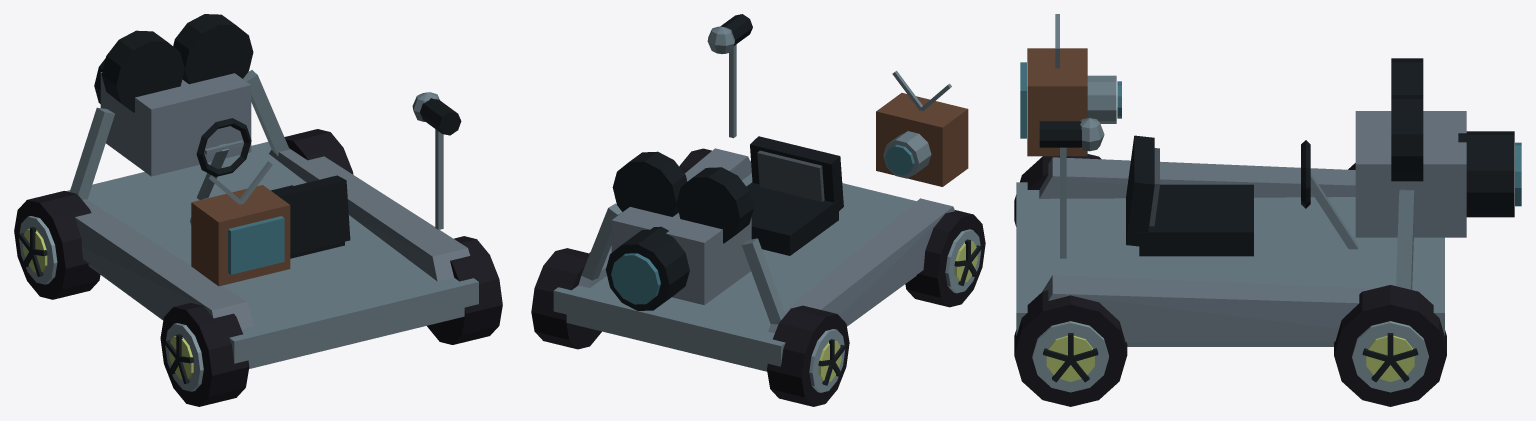
File: kart.glb
The picture shows the model from 3 angles, left to right: view 1: azimuth 30°, elevation 25°; view 2: azimuth 150°, elevation 25°; view 3: azimuth 270°, elevation 25°; orthographic projection. The views are drawn at different scales.
Parts seen in each view (by area): view 1: identity-camera-rig-camera-dolly-and-lens, identity-camera-rig-motif-television, wheel-rear-left, wheel-front-left, identity-camera-rig-driver-cockpit, wheel-rear-right, identity-camera-rig-motif-microphone, wheel-front-right; view 2: identity-camera-rig-camera-dolly-and-lens, identity-camera-rig-driver-cockpit, wheel-front-left, identity-camera-rig-motif-television, wheel-rear-left, wheel-front-right, identity-camera-rig-motif-microphone, identity-camera-rig-motif-camera; view 3: identity-camera-rig-camera-dolly-and-lens, identity-camera-rig-driver-cockpit, wheel-front-right, wheel-rear-right, identity-camera-rig-motif-television, identity-camera-rig-motif-microphone, identity-camera-rig-motif-camera, wheel-rear-left.
Boxes of the visible parts, x1,y1,x2,y2 form: identity-camera-rig-camera-dolly-and-lens: (66,14,478,368); identity-camera-rig-motif-television: (191,161,290,286); wheel-rear-left: (160,303,249,406); wheel-front-left: (14,191,100,299); identity-camera-rig-driver-cockpit: (196,118,350,258); wheel-rear-right: (427,236,502,344); identity-camera-rig-motif-microphone: (412,92,461,229); wheel-front-right: (284,129,353,174); identity-camera-rig-camera-dolly-and-lens: (553,148,954,371); identity-camera-rig-driver-cockpit: (746,136,843,255); wheel-front-left: (767,305,849,406); identity-camera-rig-motif-television: (876,70,968,186); wheel-rear-left: (905,210,985,307); wheel-front-right: (531,248,601,349); identity-camera-rig-motif-microphone: (707,14,752,138); identity-camera-rig-motif-camera: (883,131,931,178); identity-camera-rig-camera-dolly-and-lens: (1016,58,1521,346); identity-camera-rig-driver-cockpit: (1126,135,1358,256); wheel-front-right: (1334,285,1446,406); wheel-rear-right: (1014,290,1127,406); identity-camera-rig-motif-television: (1020,14,1087,156); identity-camera-rig-motif-microphone: (1039,117,1104,258); identity-camera-rig-motif-camera: (1087,75,1121,123); wheel-rear-left: (1014,154,1101,226).
Size of the model in its own units: 2.07 by 1.57 by 2.7.
